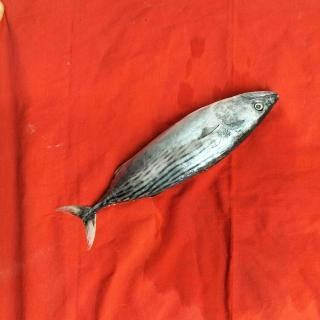Ikan: (55, 84, 283, 257)
